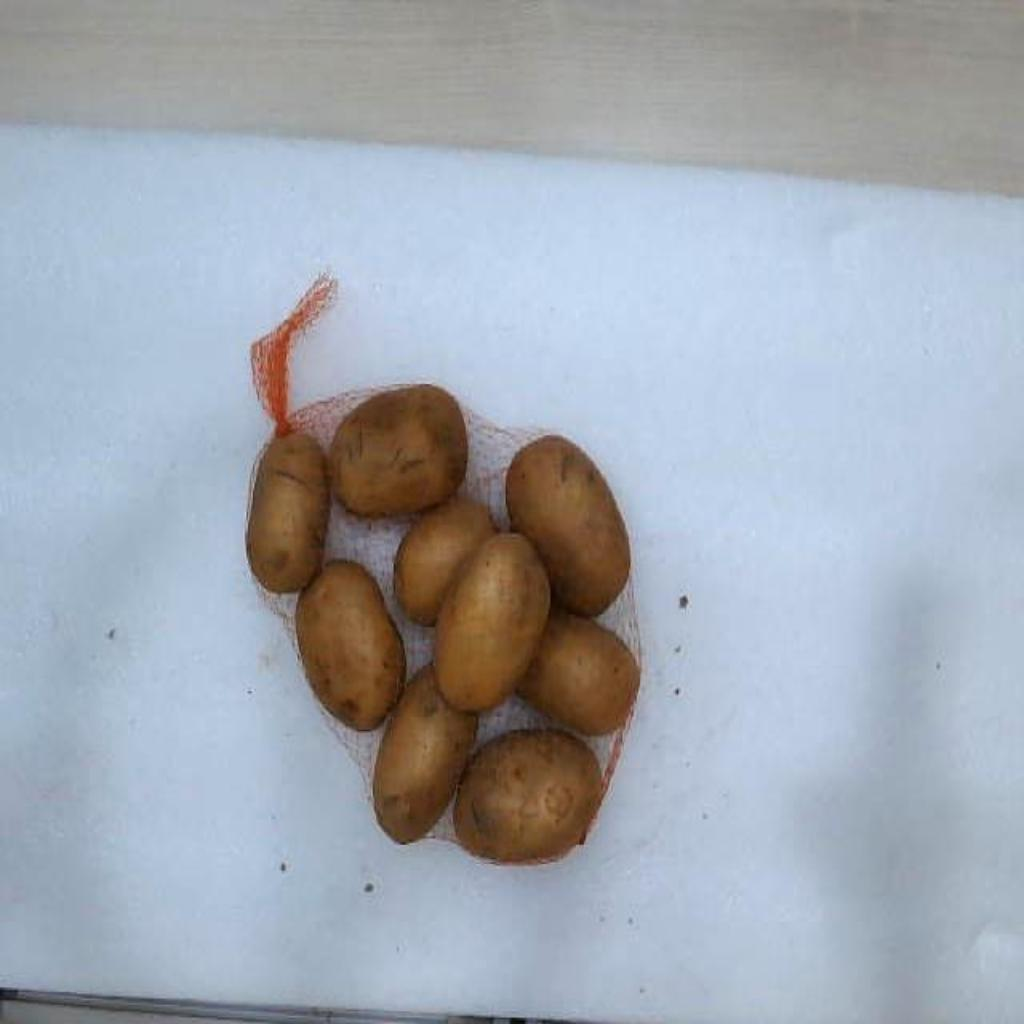potato: (506, 435, 630, 616), (434, 533, 548, 712), (458, 731, 602, 861), (374, 664, 478, 843), (298, 560, 406, 731), (330, 384, 466, 516), (516, 608, 640, 735), (246, 435, 330, 591), (398, 504, 496, 623)
